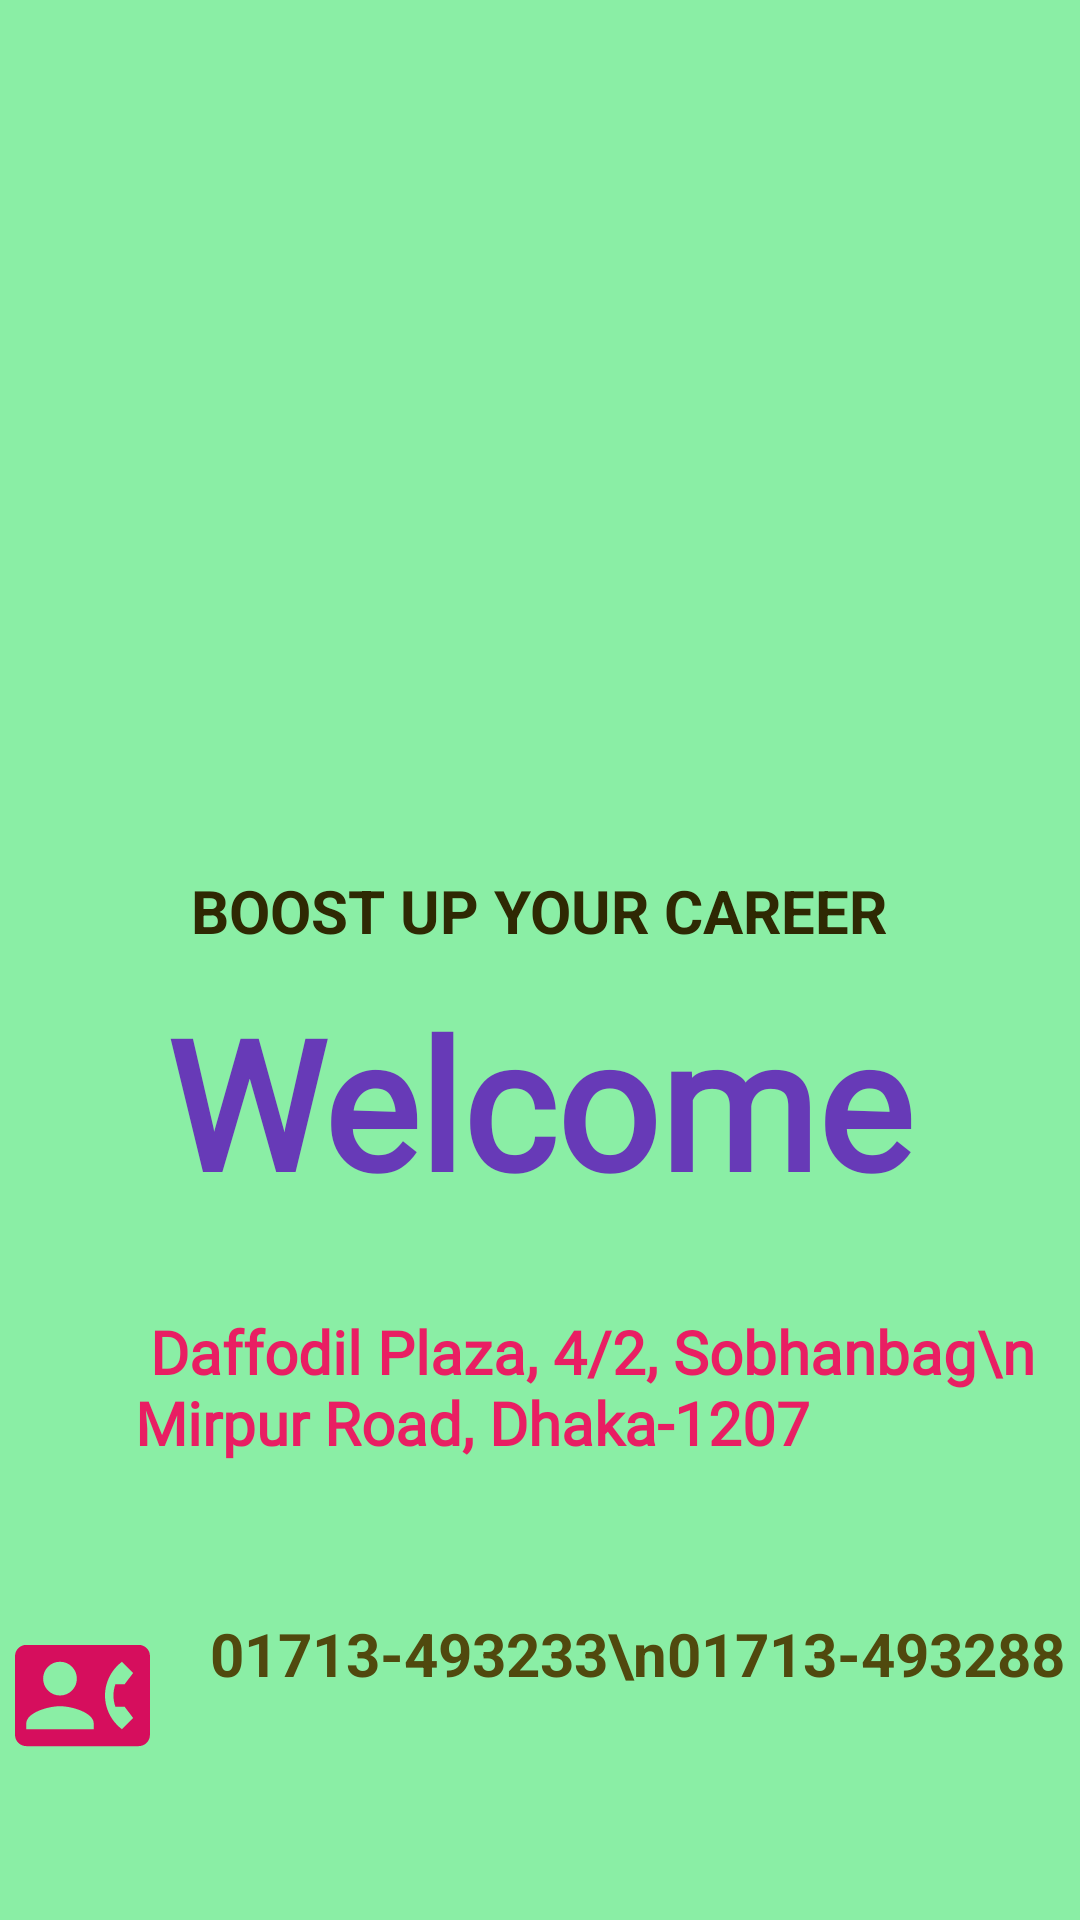

Icons on this 1080×1920 Android screen, each with its box as (x1,y1,x2,y2):
contact phone: (15,1645,150,1747)
